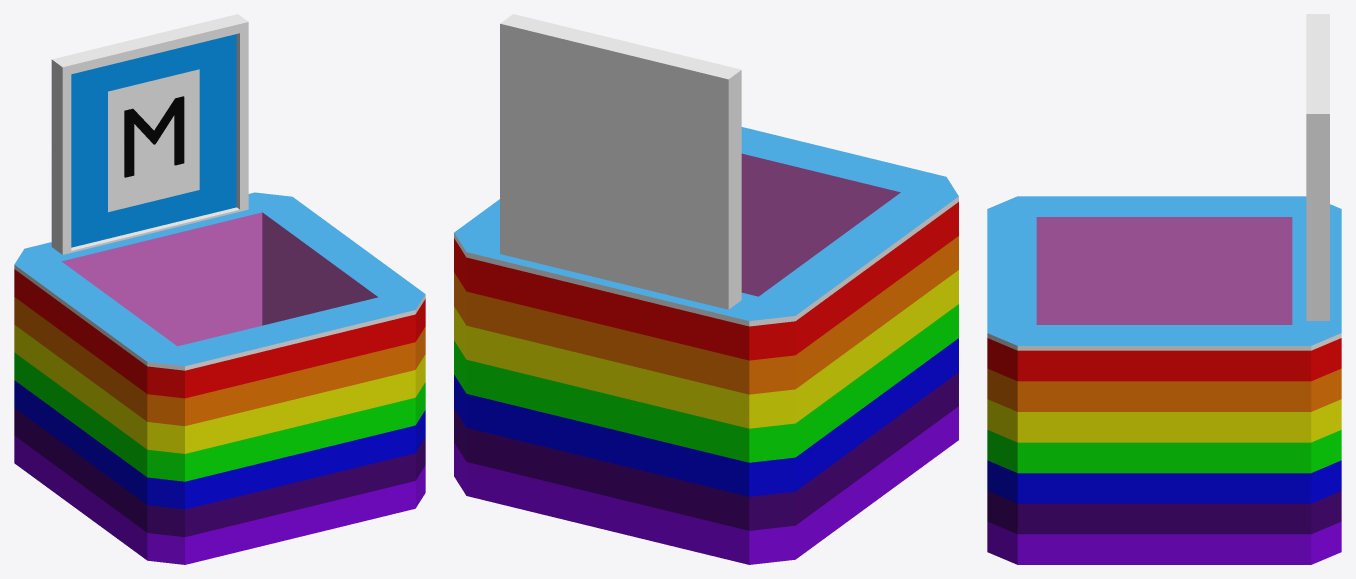
3 views of the same model, side by side, from view 1: azimuth 30°, elevation 25°; view 2: azimuth 150°, elevation 25°; view 3: azimuth 270°, elevation 25° (orthographic). The views are drawn at different scales.
Visible parts, largest first — view 1: Cube.001, Text; view 2: Cube.001; view 3: Cube.001.
Boxes of the visible parts, bbox=[...] form: Cube.001: bbox=[14, 14, 425, 564]; Text: bbox=[124, 96, 184, 177]; Cube.001: bbox=[454, 14, 958, 564]; Cube.001: bbox=[987, 14, 1341, 564].
Bounding box in the file's own units: 383 × 508 × 383.
